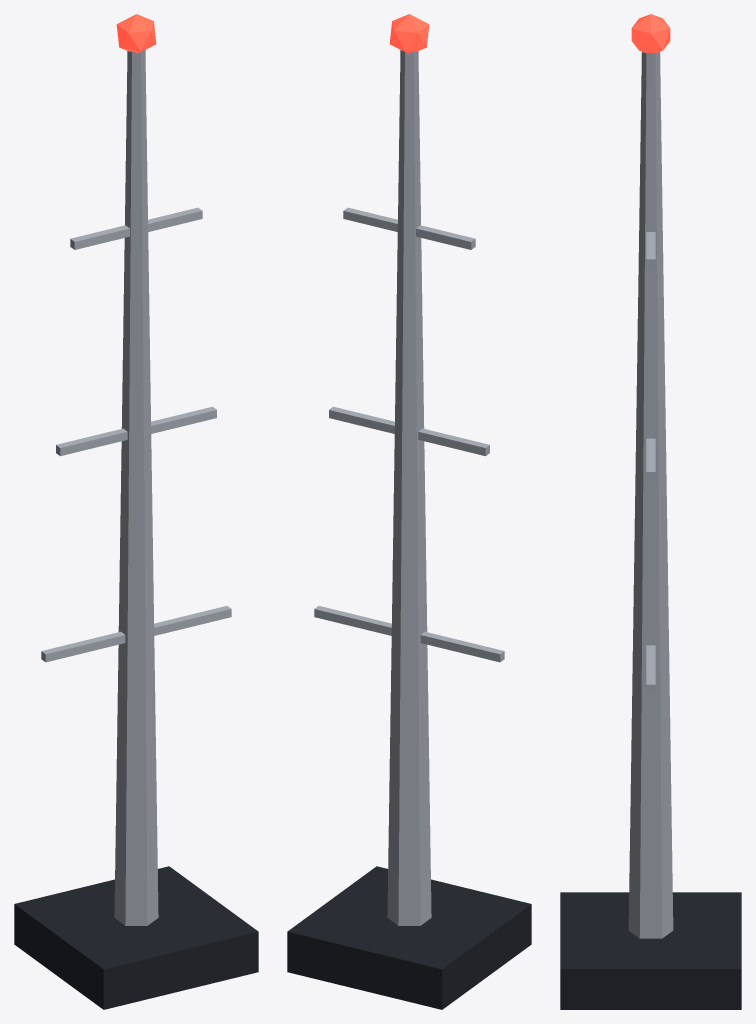
Rendered from antenna.glb.
The picture shows the model from 3 angles, left to right: view 1: azimuth 30°, elevation 25°; view 2: azimuth 150°, elevation 25°; view 3: azimuth 270°, elevation 25°; orthographic projection.
Parts seen in each view (by area): view 1: antenna; view 2: antenna; view 3: antenna.
Part boxes in pixels (box(x1,y1,x2,y2)): antenna: box(14, 14, 258, 1009); antenna: box(287, 14, 531, 1009); antenna: box(560, 14, 741, 1009).
Bounding box in the file's own units: 0.48 × 2.33 × 0.4.
